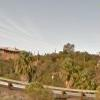Tree: (17, 38, 100, 88)
